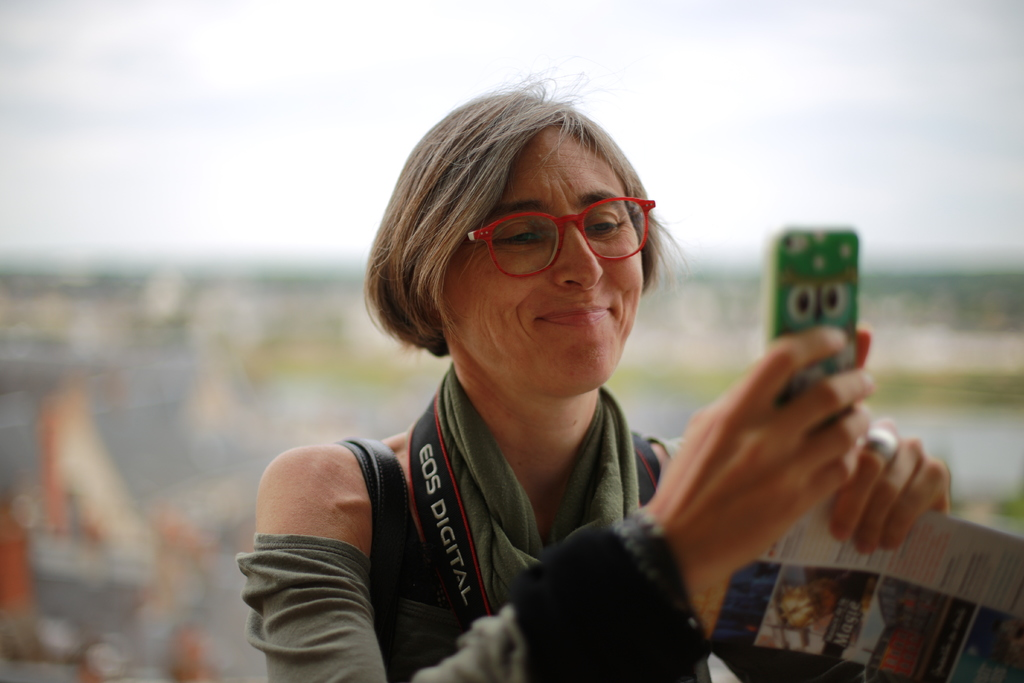Human_hand: (665, 322, 908, 588), (824, 418, 954, 561)
